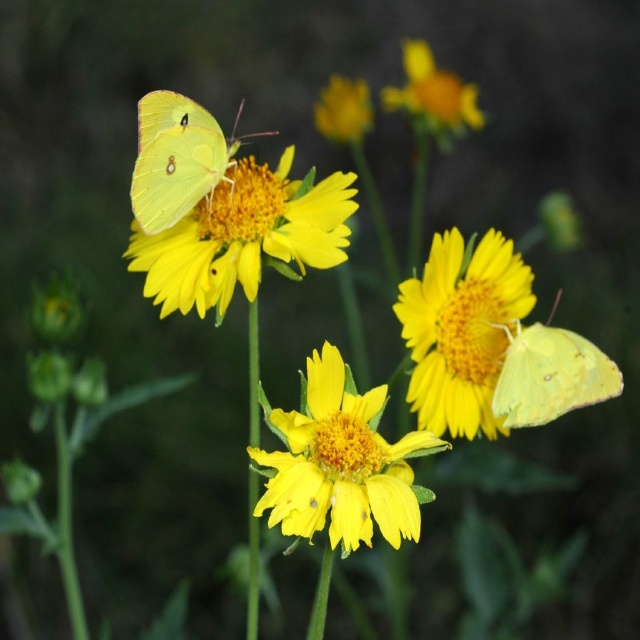Butterfly: (130, 89, 279, 236), (491, 289, 624, 428)
